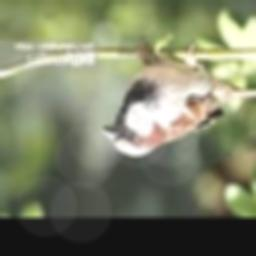Sparrow: (102, 37, 256, 156)
